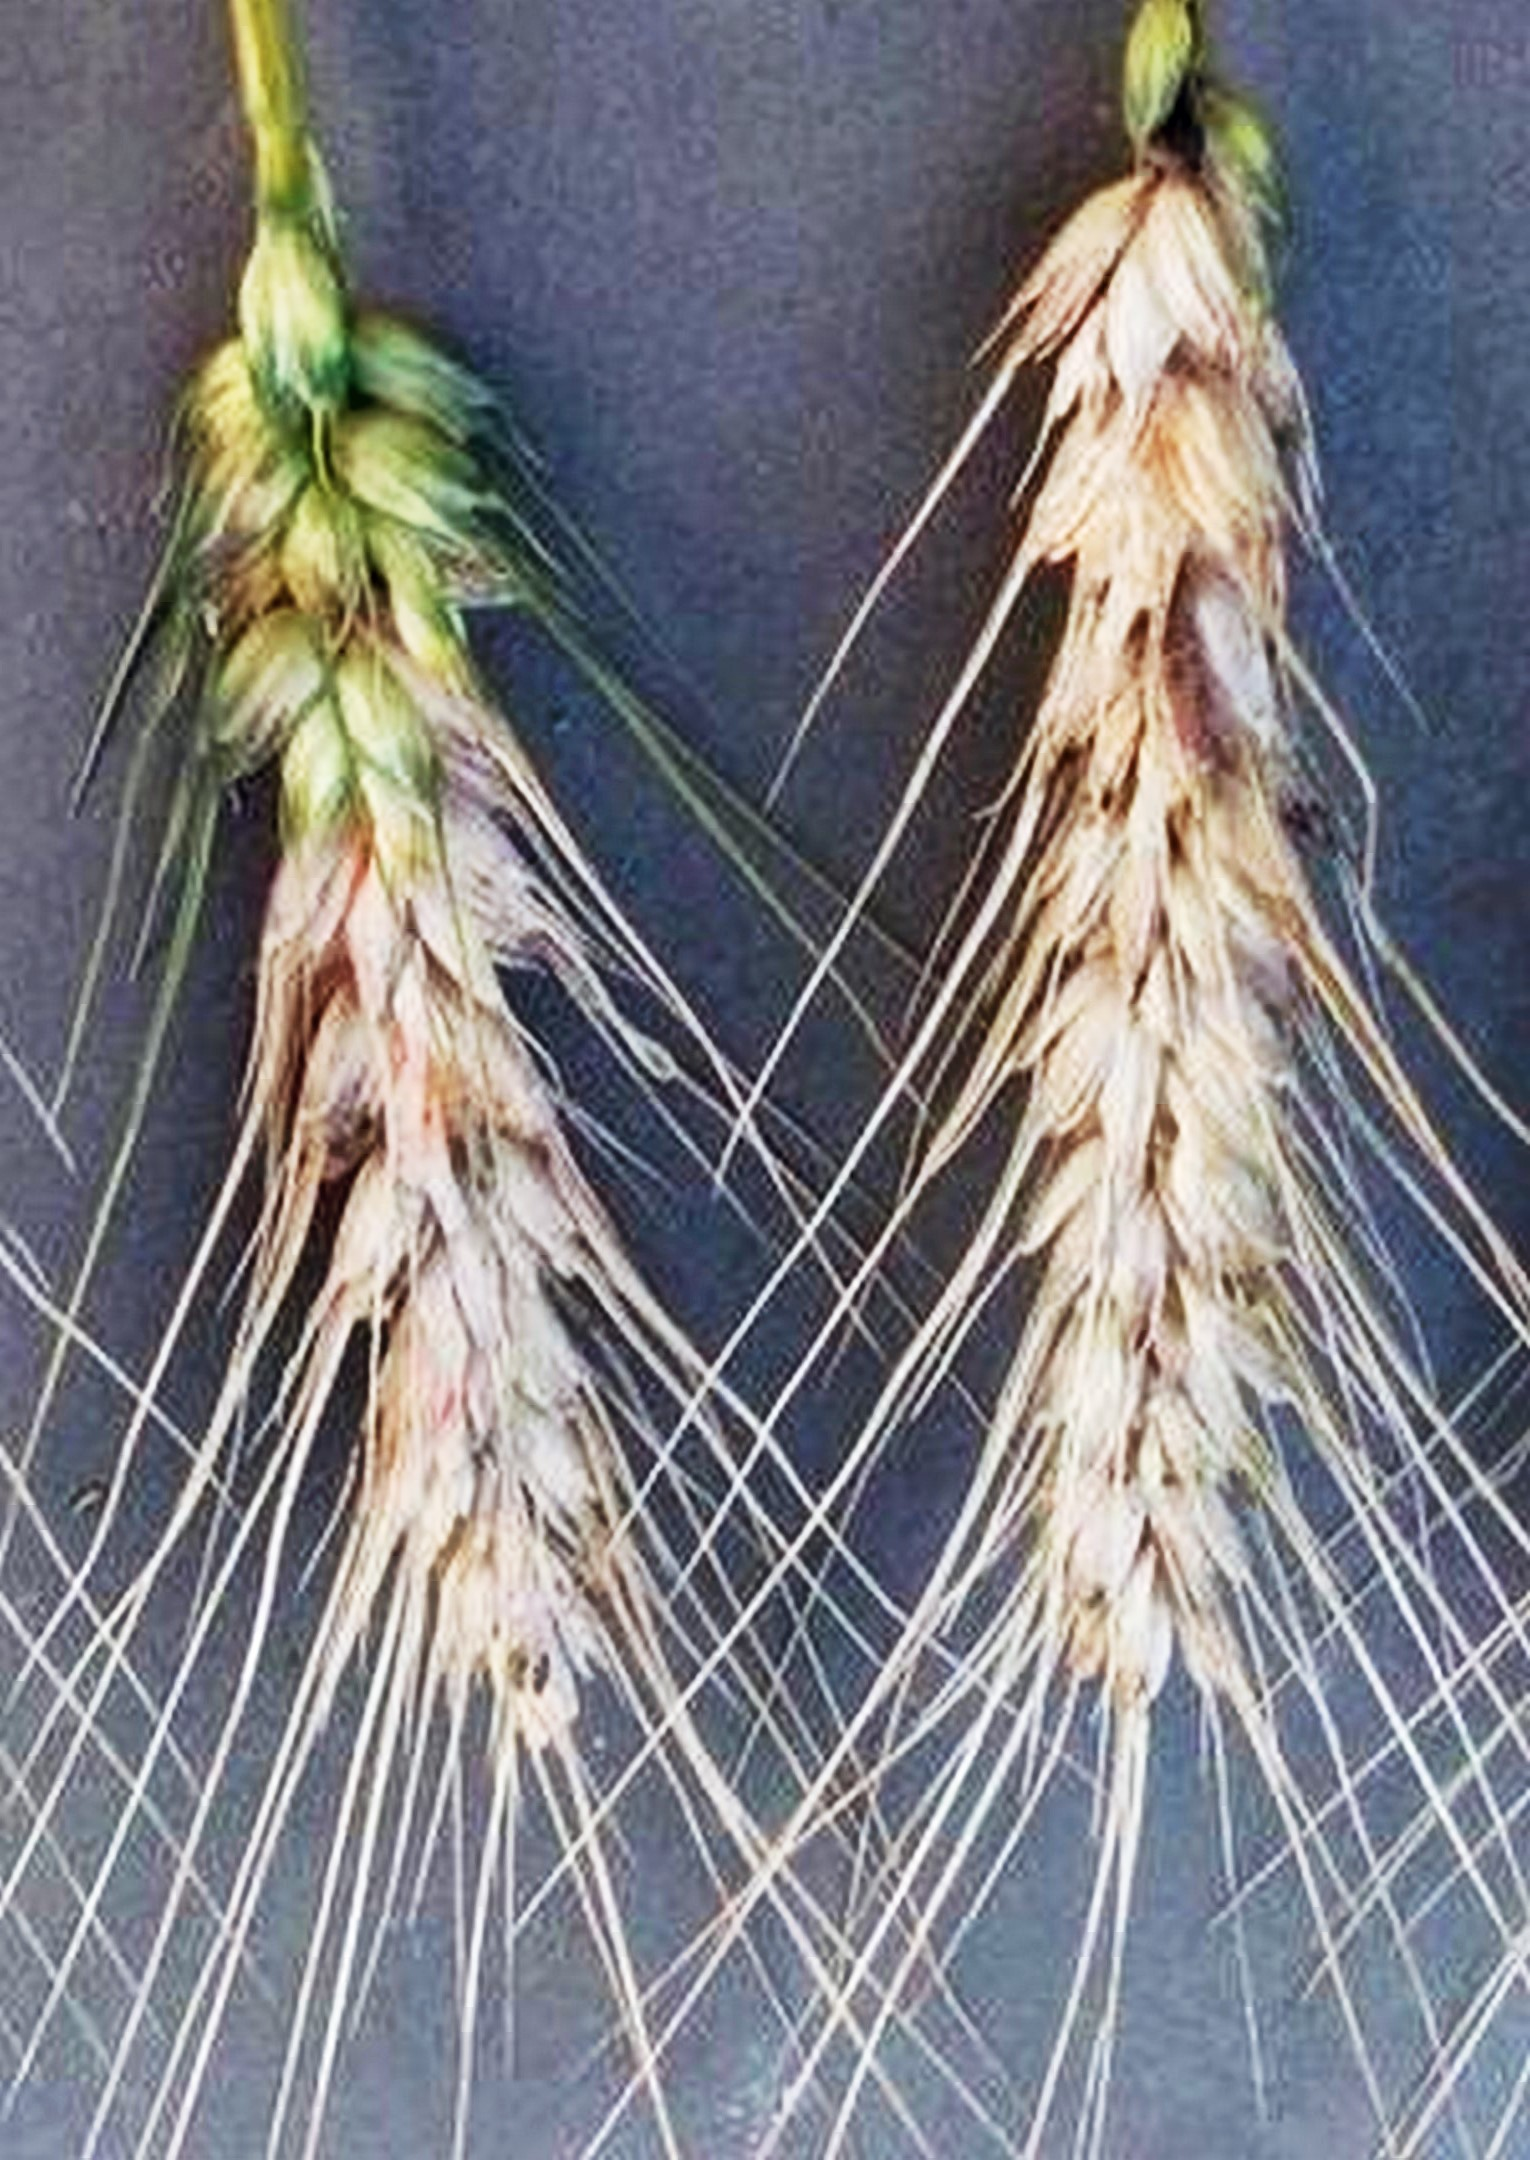Wheat scab: (136, 222, 681, 1791)
